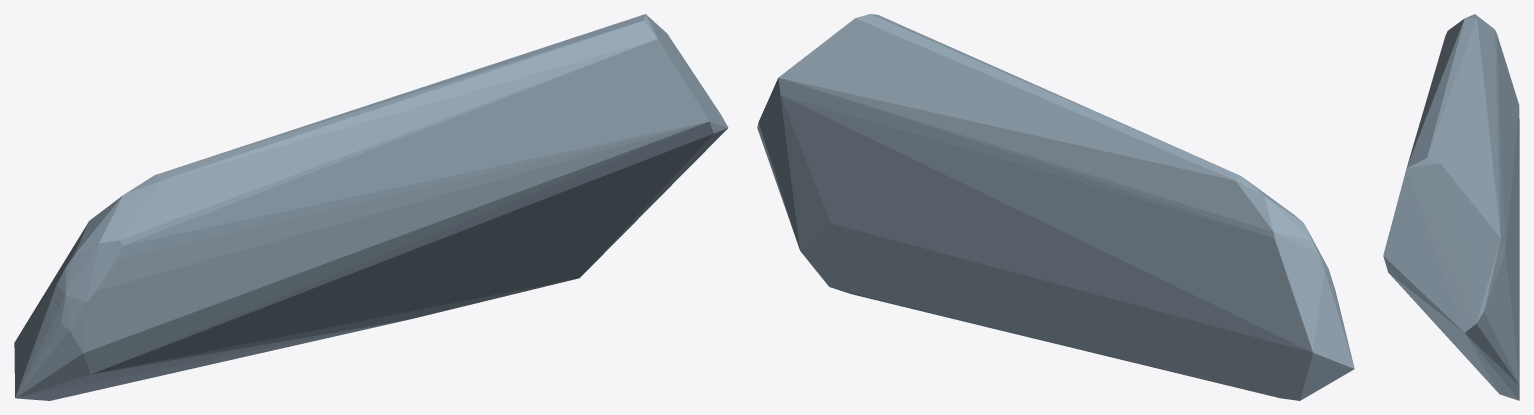
File: exhaustSystem_exhaust_manifold_c01.glb
3 views of the same model, side by side, from view 1: azimuth 30°, elevation 25°; view 2: azimuth 150°, elevation 25°; view 3: azimuth 270°, elevation 25° (orthographic). The views are drawn at different scales.
Visible parts, largest first — view 1: geometry_0; view 2: geometry_0; view 3: geometry_0.
Part boxes in pixels (left/top/right/bottom): geometry_0: left=14, top=14, right=728, bottom=400; geometry_0: left=757, top=14, right=1354, bottom=400; geometry_0: left=1383, top=14, right=1519, bottom=400.
Bounding box in the file's own units: 0.4788 × 0.1844 × 0.0923.
